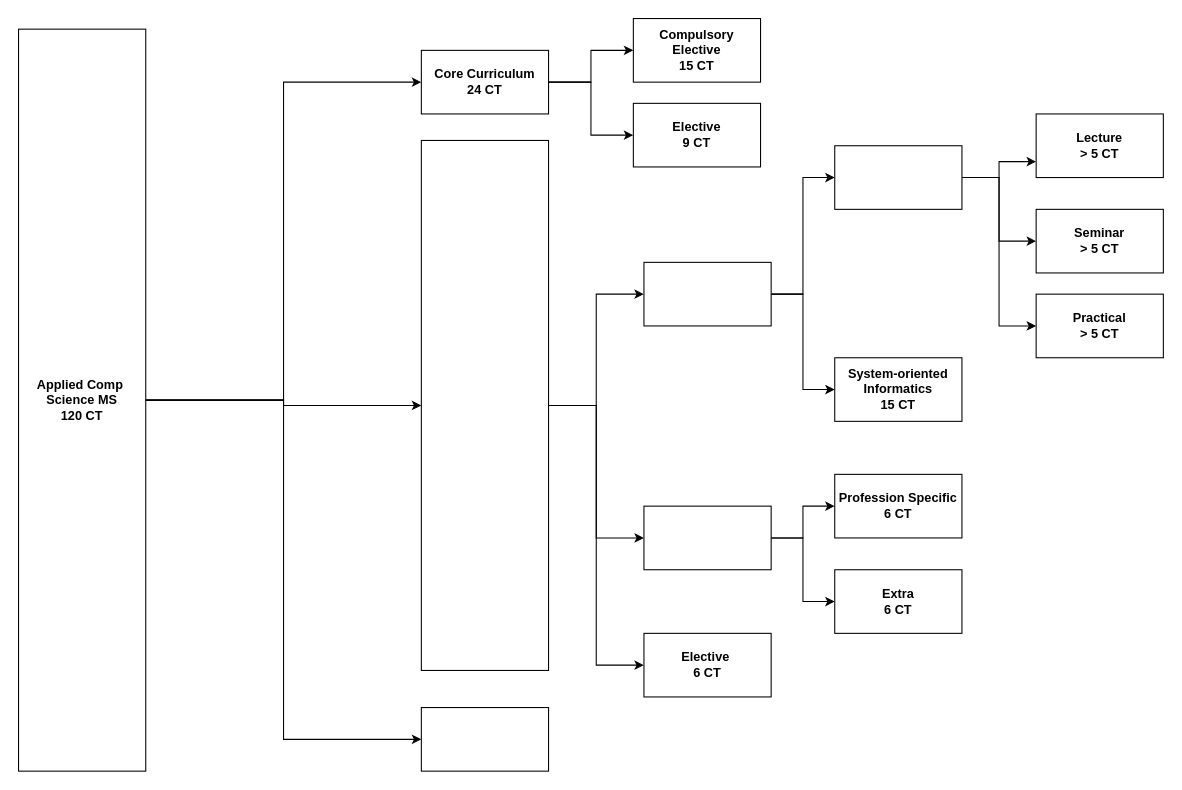
Some shapes in this 1182 by 790 pixel diagram are drawn without their labels. The shapes that lost their labels are listed below. From the top down, each one's box as (x1, y1, x2, y2) in pixels, then its label:
(834, 145, 962, 209): Module Specific Application Systems 30 CT
(643, 261, 771, 326): Specialization 48 CT
(420, 139, 549, 670): Professionalisation 66 CT
(643, 505, 771, 570): Key Competency 12 CT
(420, 706, 549, 771): Thesis 30 CT
